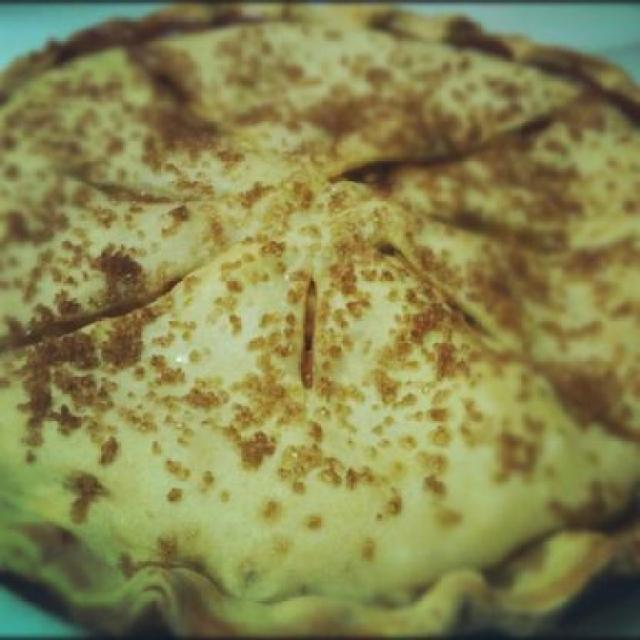Apple: (12, 22, 638, 630)
